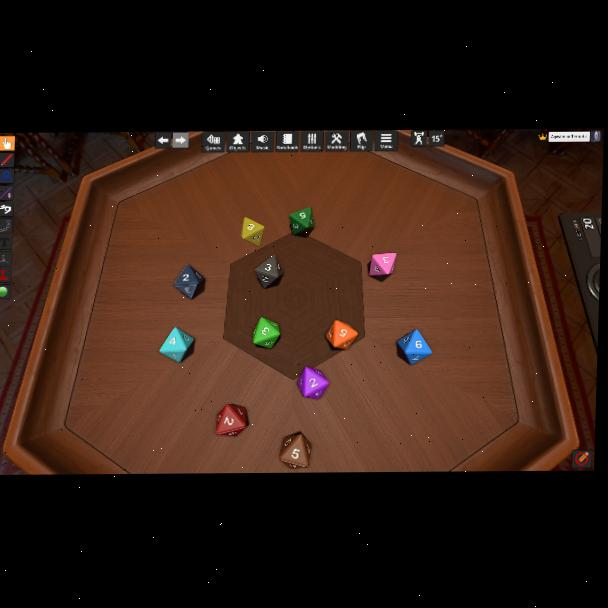d8: (159, 327, 195, 362), (397, 329, 431, 364), (174, 264, 206, 299), (279, 433, 310, 469), (215, 403, 248, 435), (297, 367, 329, 398), (254, 255, 283, 289), (327, 318, 357, 349), (252, 317, 281, 349), (241, 217, 265, 247), (288, 208, 312, 236), (370, 252, 394, 277)
